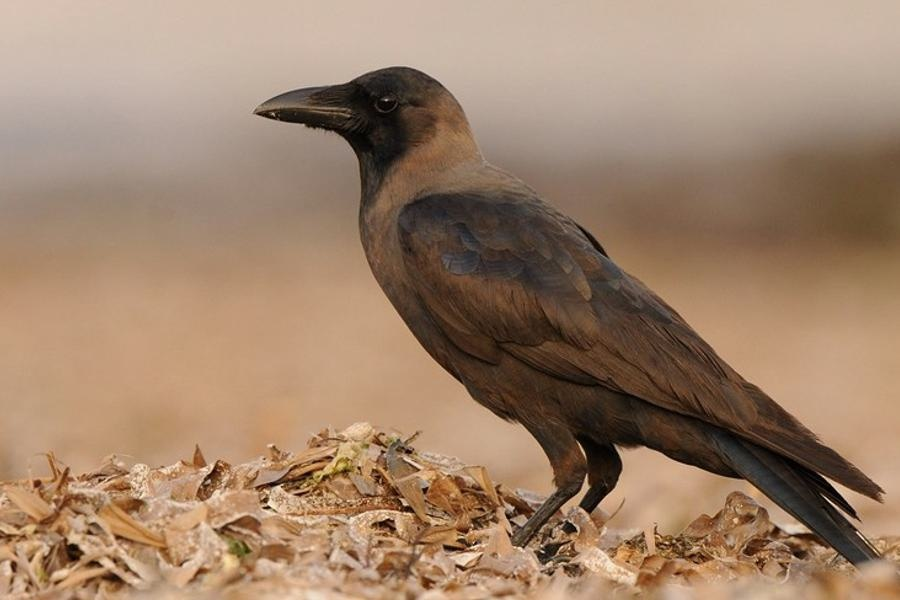crow: (242, 65, 900, 600)
